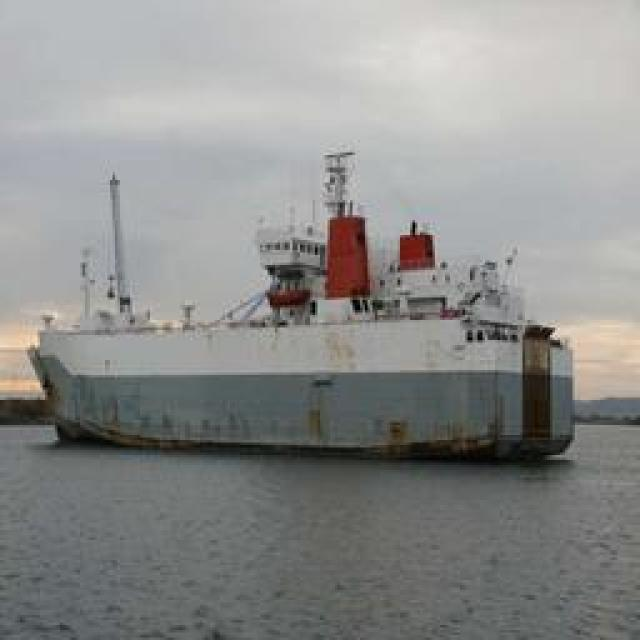CIV_Ship: (30, 150, 580, 458)
